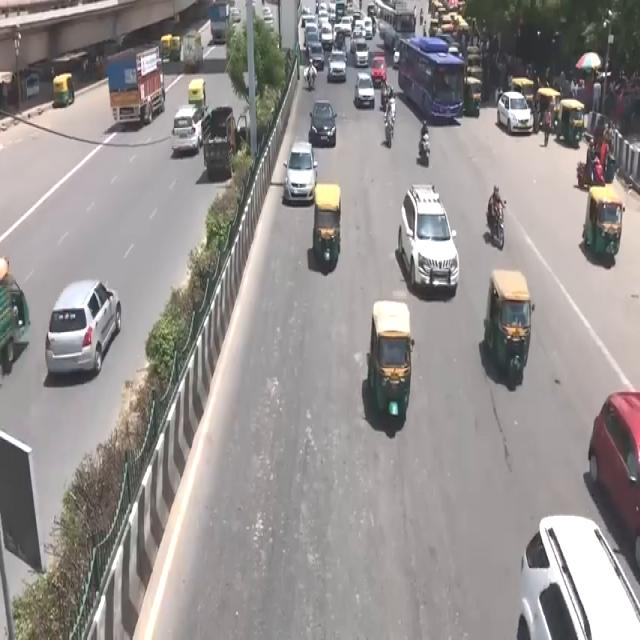BUS: (397, 38, 466, 126)
MOTORCYCLE: (490, 200, 506, 251)
SUV: (402, 190, 459, 296)
TRUCK: (109, 49, 166, 131)
